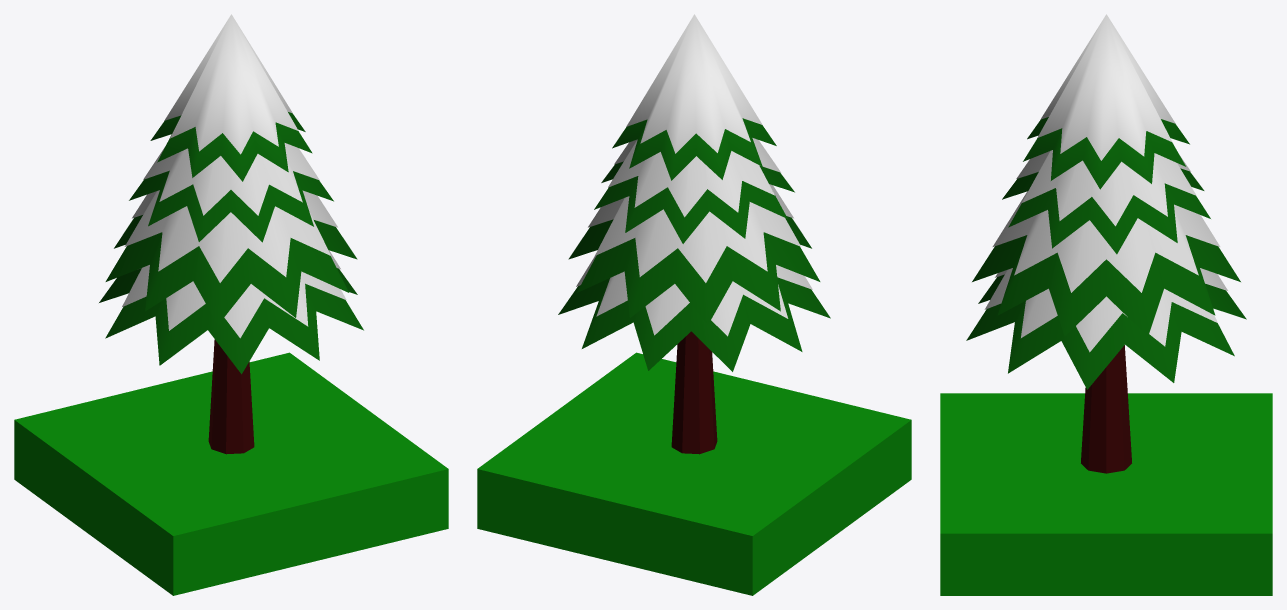
Rendered from ki(yuki)3.fbx.
3 renders of one model, left to right at view 1: azimuth 30°, elevation 25°; view 2: azimuth 150°, elevation 25°; view 3: azimuth 270°, elevation 25°, orthographic. The views are drawn at different scales.
Parts seen in each view (by area): view 1: pasted__pasted__pCube1, pCylinder1, pCylinder8, pCylinder4, pCylinder6, pCylinder7, pCylinder2, pCylinder3, pasted__pasted__pCylinder1, pCylinder5; view 2: pasted__pasted__pCube1, pCylinder1, pCylinder8, pCylinder4, pCylinder6, pCylinder7, pCylinder2, pasted__pasted__pCylinder1, pCylinder3, pCylinder5; view 3: pasted__pasted__pCube1, pCylinder1, pCylinder8, pCylinder4, pCylinder6, pCylinder7, pCylinder2, pasted__pasted__pCylinder1, pCylinder3, pCylinder5.
Boxes of the visible parts, box(x1,y1,x2,y2) form: pasted__pasted__pCube1: box(14, 352, 448, 595); pCylinder1: box(105, 215, 357, 324); pCylinder8: box(164, 14, 298, 154); pCylinder4: box(99, 268, 363, 374); pCylinder6: box(124, 190, 337, 282); pCylinder7: box(143, 143, 319, 215); pCylinder2: box(129, 170, 333, 242); pCylinder3: box(150, 112, 312, 181); pasted__pasted__pCylinder1: box(208, 339, 254, 454); pCylinder5: box(122, 250, 346, 338); pasted__pasted__pCube1: box(477, 352, 911, 595); pCylinder1: box(568, 216, 820, 324); pCylinder8: box(626, 14, 762, 153); pCylinder4: box(558, 277, 830, 371); pCylinder6: box(588, 184, 801, 282); pCylinder7: box(608, 138, 780, 217); pCylinder2: box(594, 161, 794, 243); pasted__pasted__pCylinder1: box(671, 331, 717, 454); pCylinder3: box(612, 118, 776, 180); pCylinder5: box(576, 255, 812, 336); pasted__pasted__pCube1: box(940, 393, 1272, 595); pCylinder1: box(972, 235, 1240, 336); pCylinder8: box(1037, 14, 1175, 160); pCylinder4: box(966, 274, 1246, 389); pCylinder6: box(992, 191, 1220, 292); pCylinder7: box(1016, 150, 1196, 226); pCylinder2: box(1002, 168, 1210, 254); pasted__pasted__pCylinder1: box(1081, 345, 1131, 473); pCylinder3: box(1023, 117, 1189, 189); pCylinder5: box(984, 268, 1227, 352).
Bounding box in the file's own units: 1.91 × 3.25 × 1.91.
